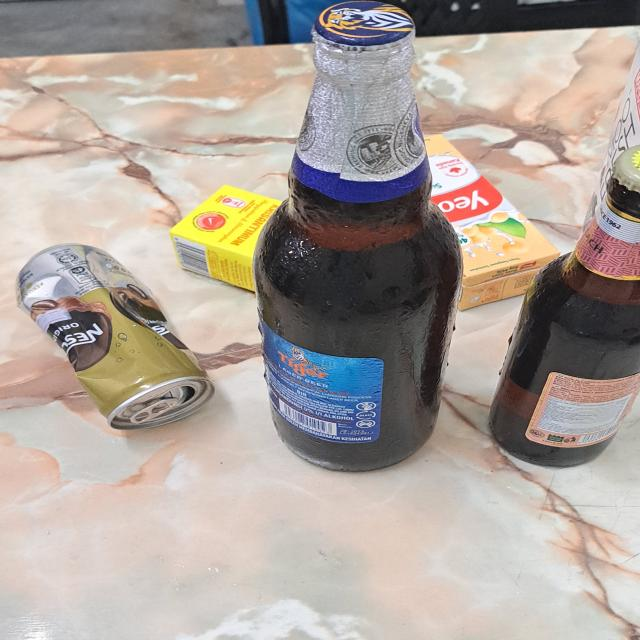can: (19, 242, 216, 430)
drink carton: (421, 132, 558, 311), (170, 183, 285, 293)
glass bottle: (253, 0, 465, 470), (488, 145, 640, 468)
